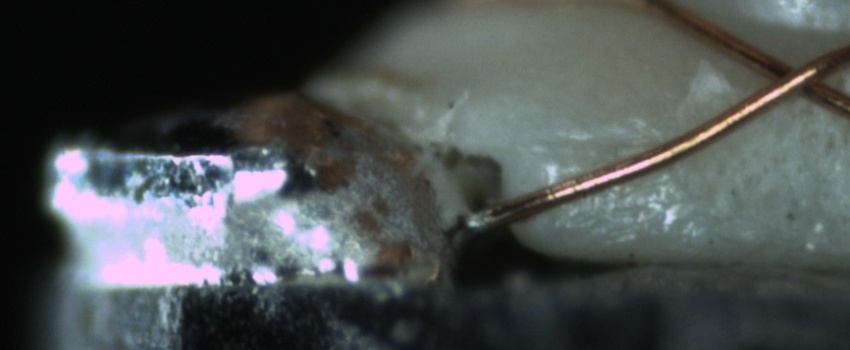CL: (741, 42, 840, 110)
DL: (535, 113, 664, 175)
